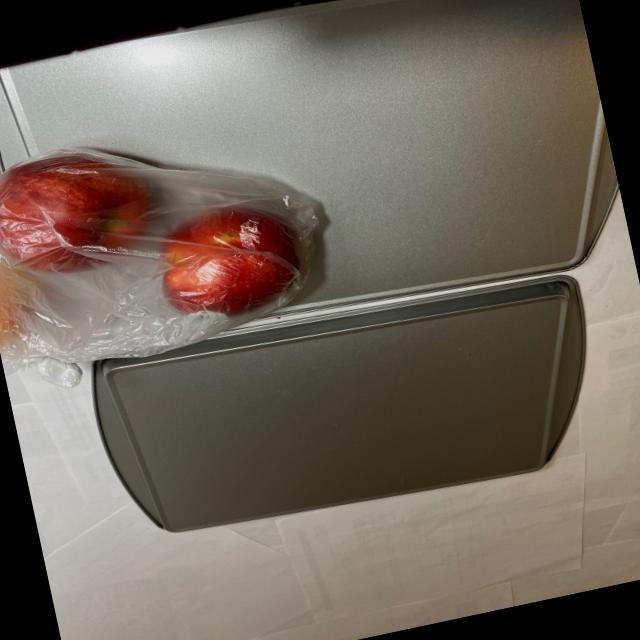apple: (0, 101, 314, 368)
